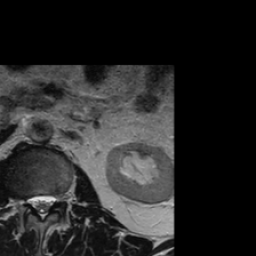CCS_normal: (38, 188, 46, 223)
LFS_normal: (56, 188, 64, 206)
LLS_normal: (47, 188, 55, 213)
RFS_stenosis: (20, 189, 30, 213)
RLS_normal: (30, 188, 38, 214)
